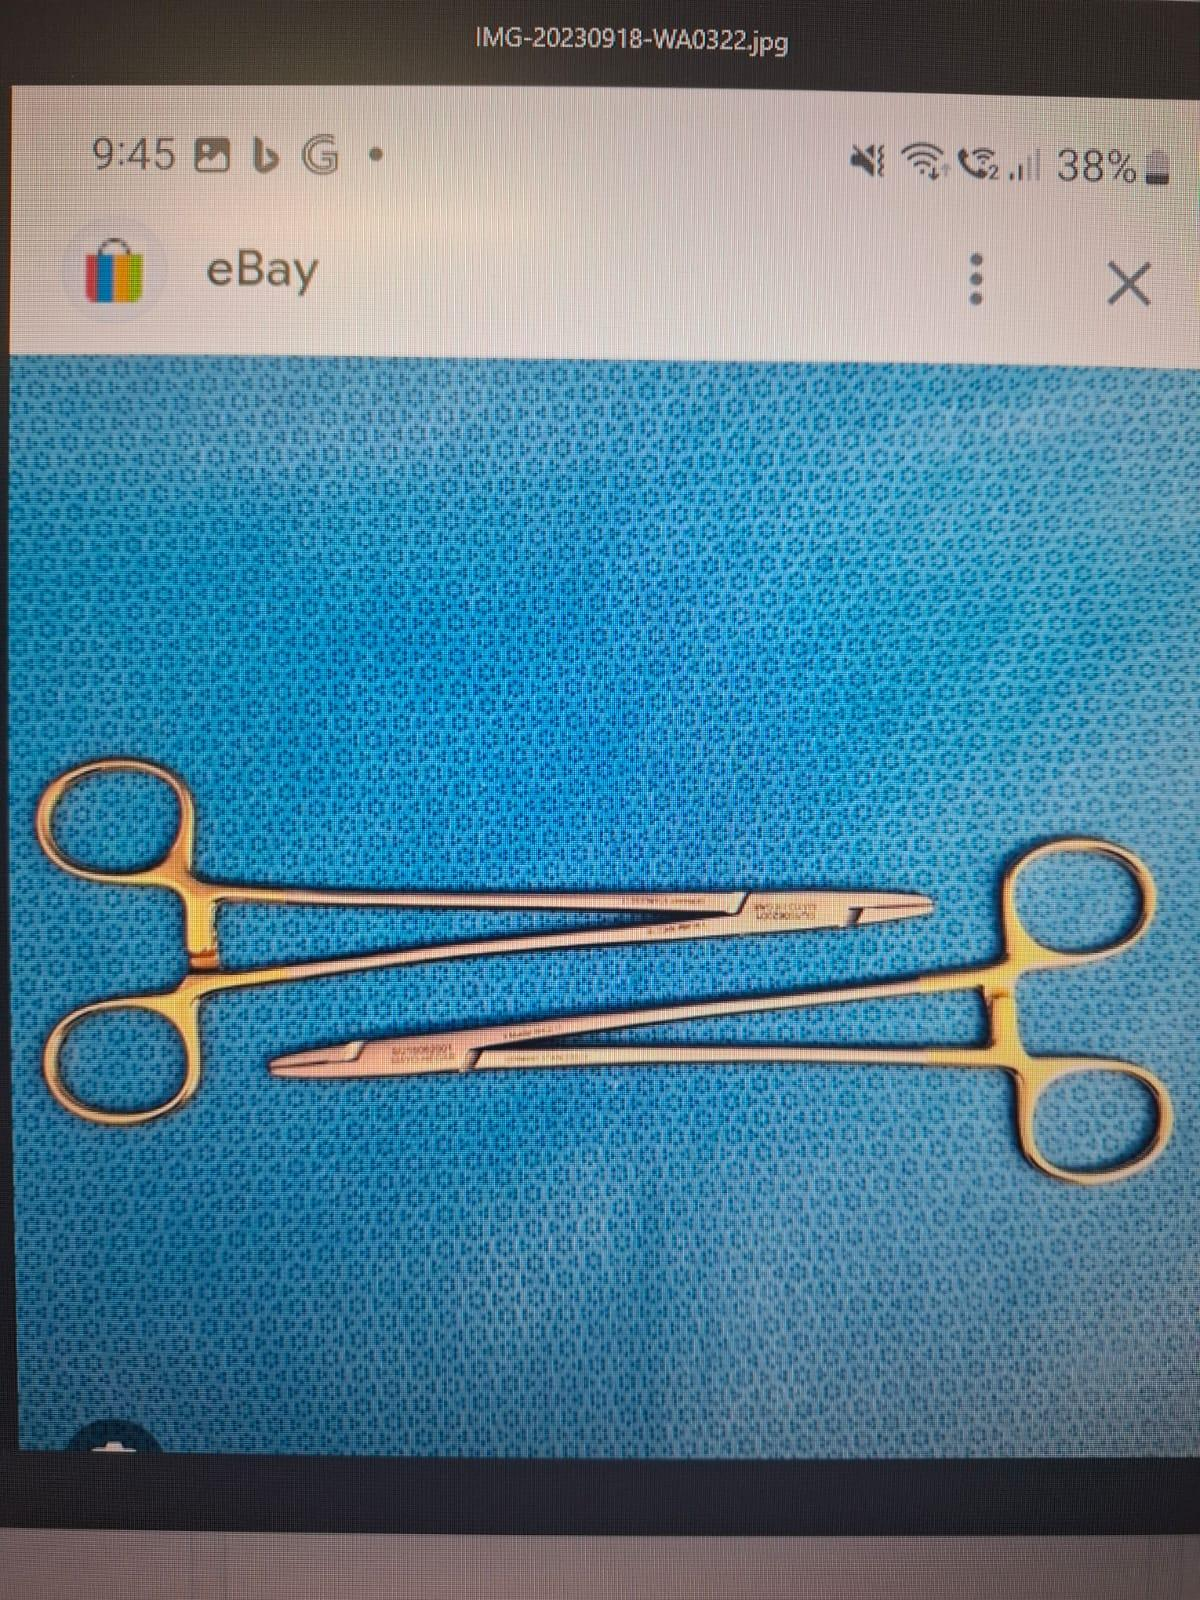Needle Holder: (23, 743, 938, 1130), (265, 832, 1185, 1195)
